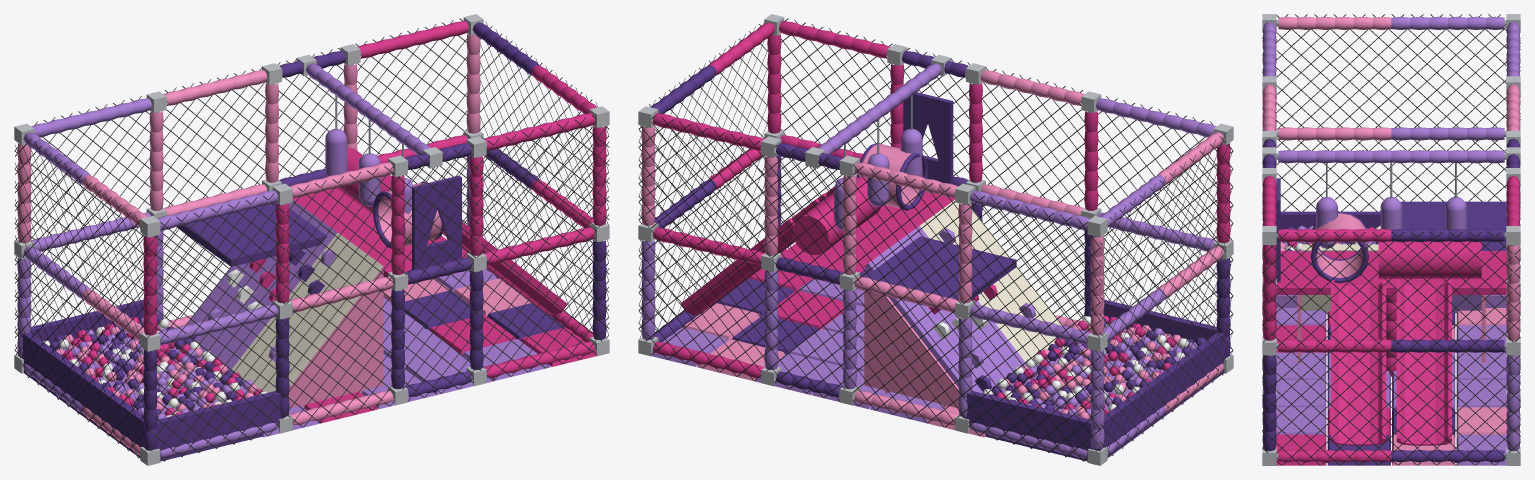
File: web.glb
3 renders of one model, left to right at view 1: azimuth 30°, elevation 25°; view 2: azimuth 150°, elevation 25°; view 3: azimuth 270°, elevation 25°, orthographic. The views are drawn at different scales.
Parts seen in each view (by area): view 1: isotubo, rede, plataforma, acolchoado, piso, bolinhas, metal, plastico; view 2: isotubo, rede, plataforma, acolchoado, piso, bolinhas, metal, plastico; view 3: isotubo, rede, plastico, piso, plataforma, acolchoado, metal, bolinhas.
Part boxes in pixels (x1,y1,x2,y2): isotubo: (17,21,606,458); rede: (14,18,609,461); plataforma: (176,175,469,408); acolchoado: (18,128,443,461); piso: (262,269,596,437); bolinhas: (43,314,266,419); metal: (14,14,609,465); plastico: (191,221,567,362); isotubo: (641,21,1230,458); rede: (638,18,1233,461); plataforma: (778,92,1061,408); acolchoado: (792,128,1229,461); piso: (651,269,985,437); bolinhas: (983,315,1205,419); metal: (638,14,1233,465); plastico: (680,186,1036,391); isotubo: (1262,16,1520,462); rede: (1262,14,1520,465); plastico: (1331,280,1451,445); piso: (1263,308,1519,465); plataforma: (1275,178,1507,362); acolchoado: (1276,197,1506,313); metal: (1262,14,1520,465); bolinhas: (1280,225,1380,250).
Bounding box in the file's own units: 4 × 2 × 2.
8 materials, 8 textured.
